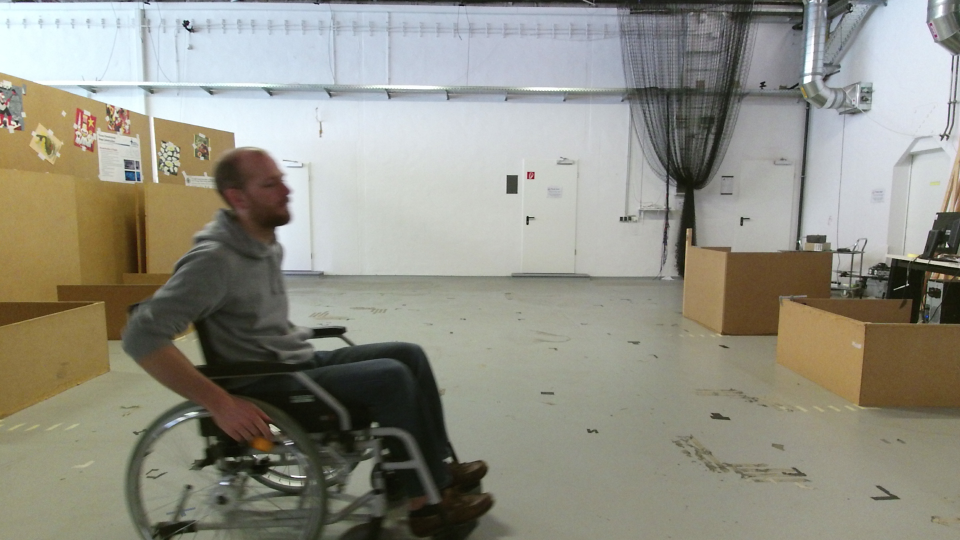wheelchair: (107, 146, 497, 540)
